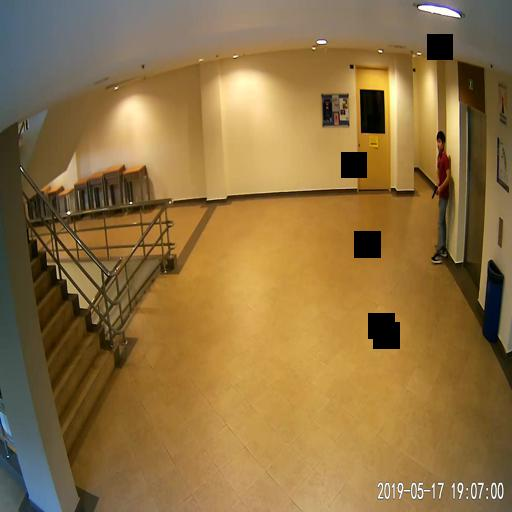Handgun: (431, 184, 438, 198)
